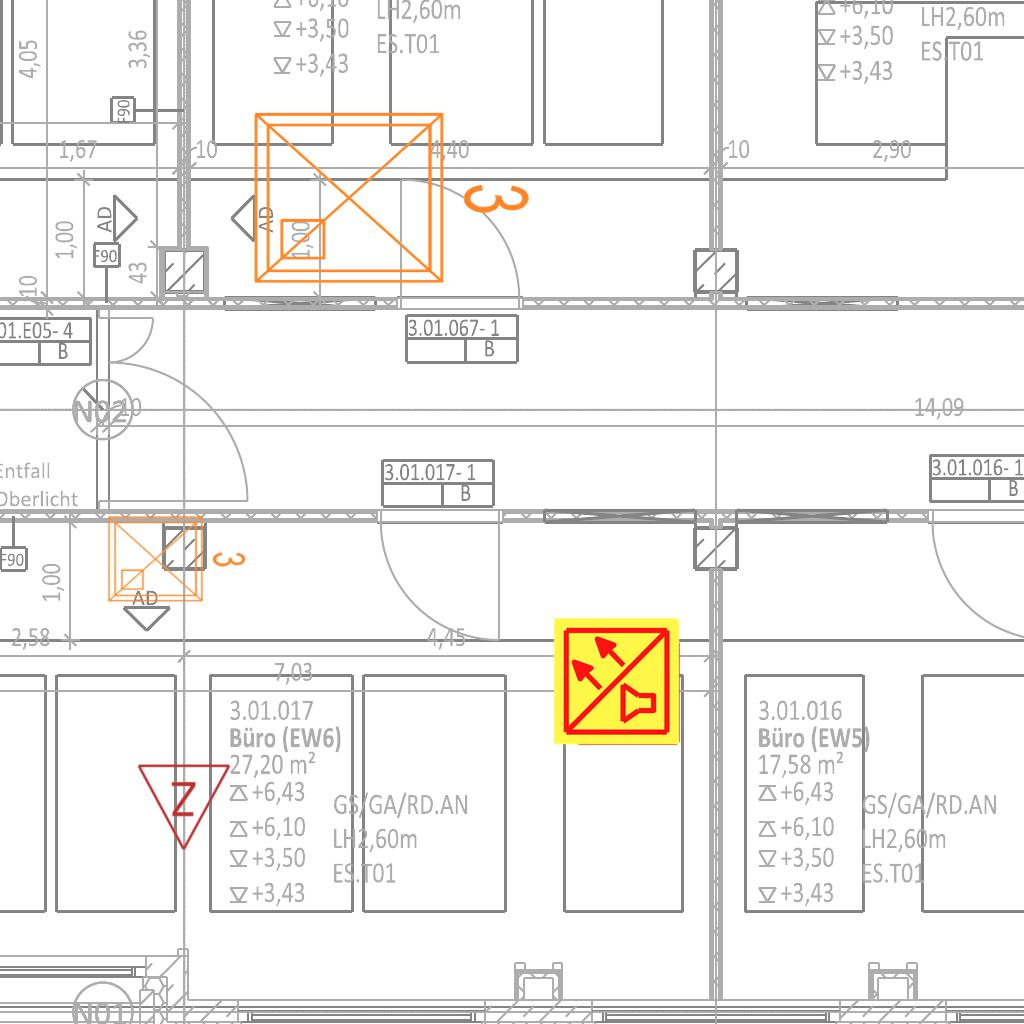Einbaudownlights_LED_Konferenzraeume: (240, 90, 540, 298), (101, 505, 251, 609)
OKW_Multisensormelder_(Kombination_optischer_Rauch-Kahlenmonoxid_Waerme-Melder): (551, 615, 683, 747)
Zimmersignalleuchte: (136, 757, 234, 857)
